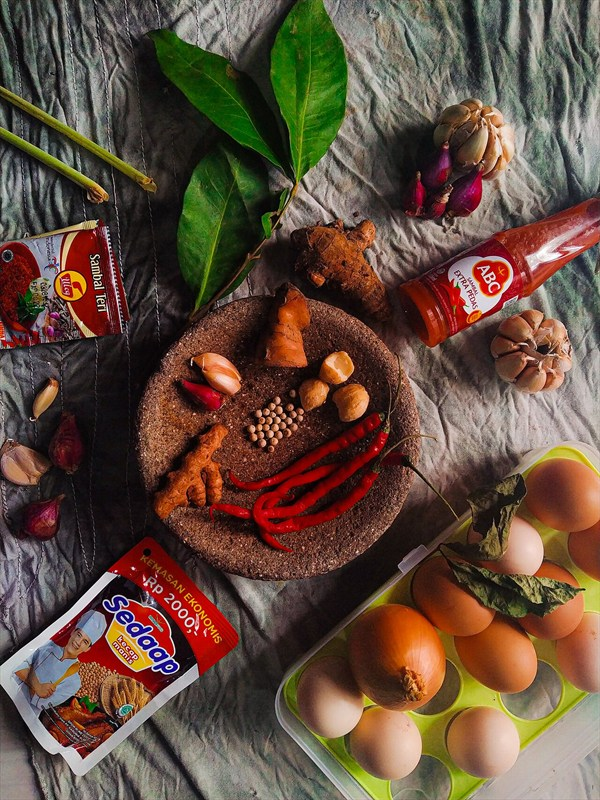Telur Balado: (43, 132, 557, 721)
